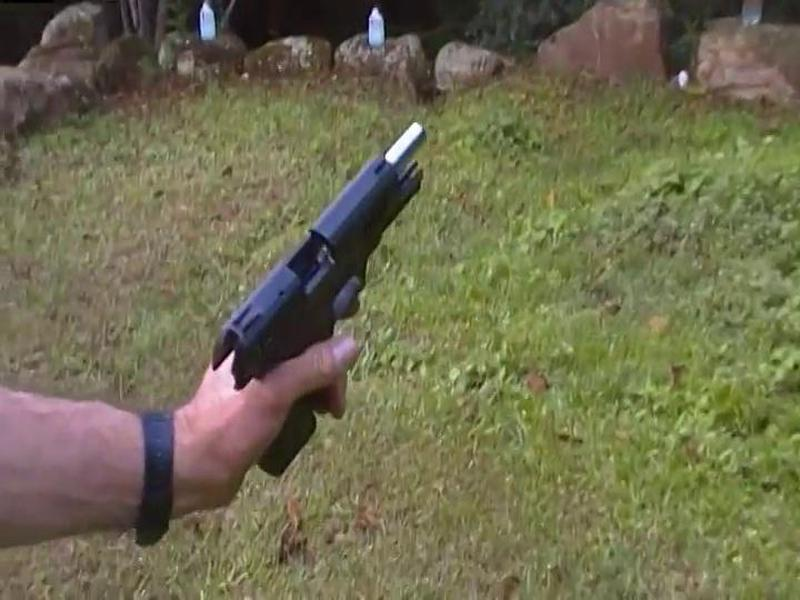Pistola: (204, 145, 477, 479)
